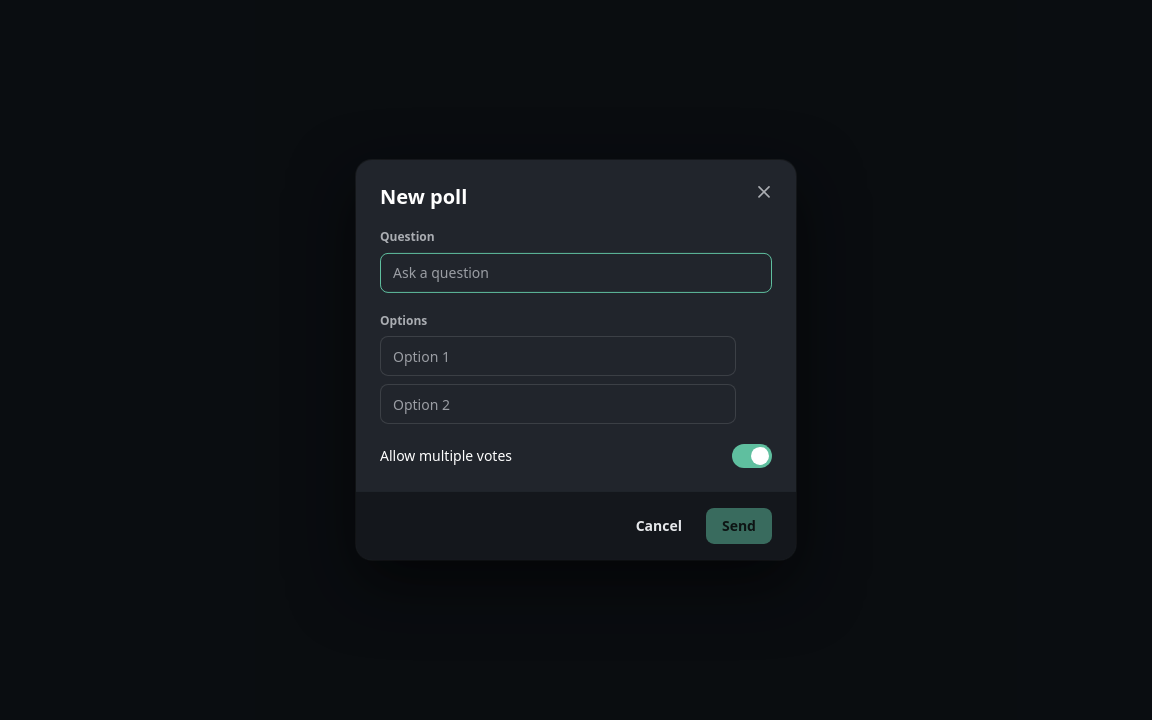
it: <PollCreateDialog /> › says two options are needed, announces it, and goes to the first blank one
The width and height of the screenshot is (1152, 720).
Type "Where?" into the field labelled "Question".
click(576, 272); type("Where?")  # box [393,254,759,292]
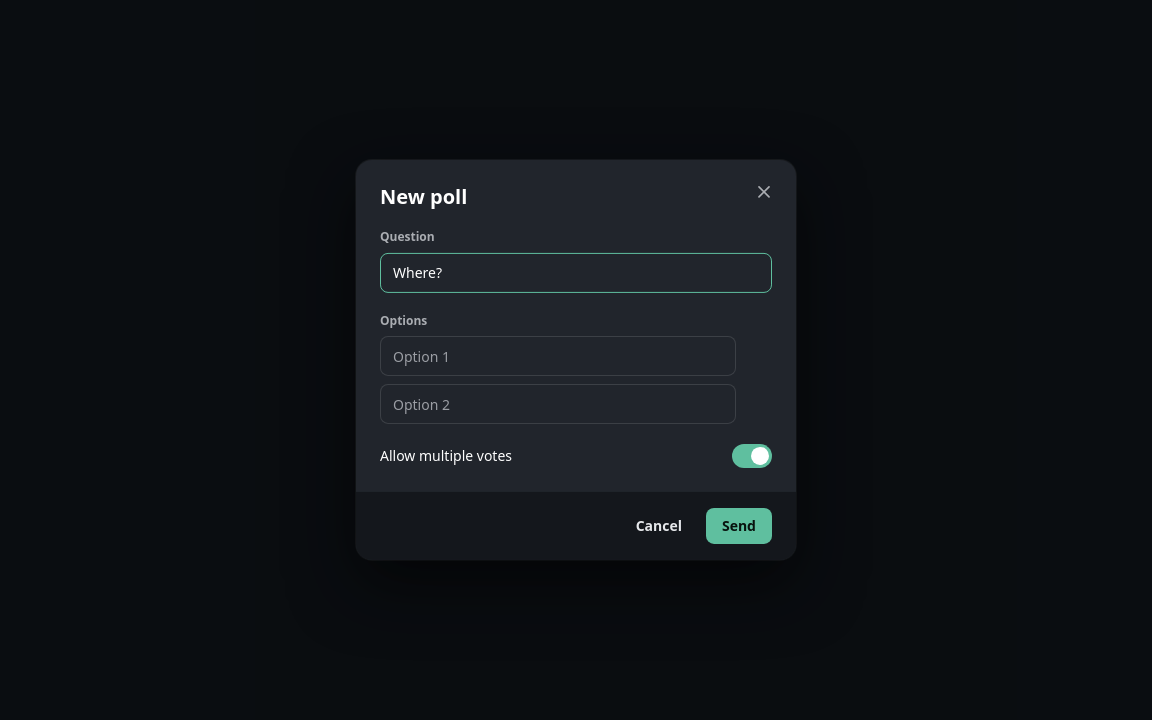
Type "a" into the field labelled "Option 1".
click(558, 356); type("a")  # box [393,337,723,375]
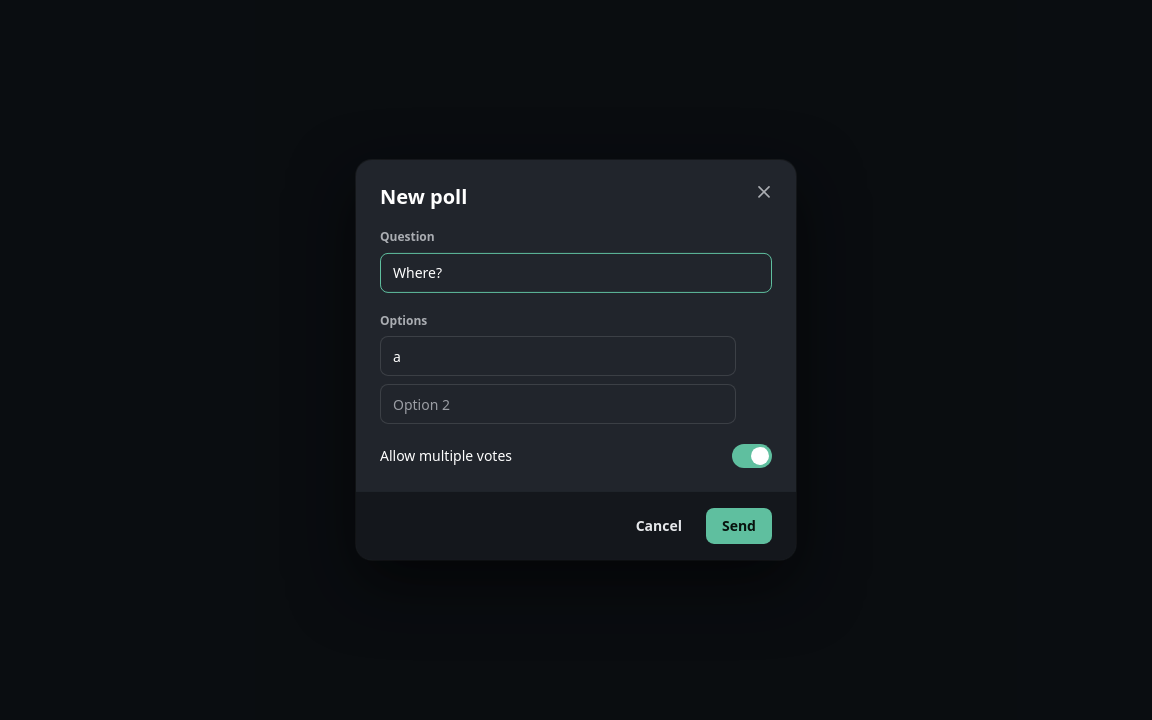
Click the button "Send".
click(739, 526)  # box [706,508,772,544]
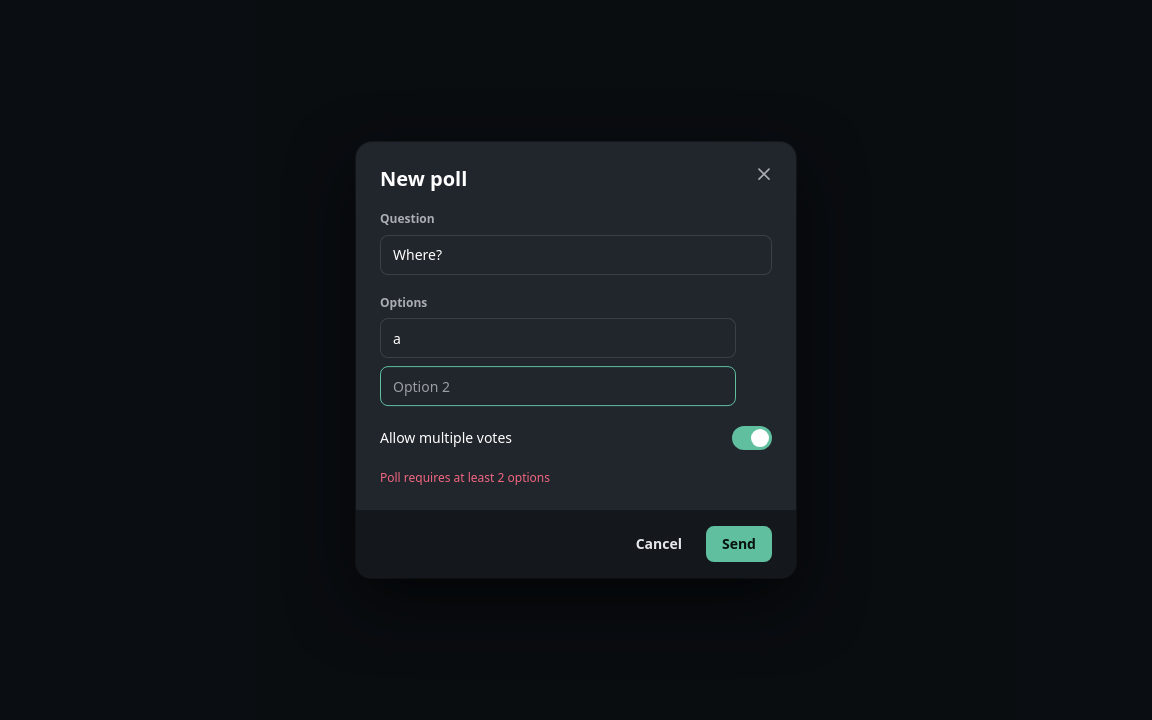
Expected: the message reads "Poll requires at least 2 options", [380,469,550,486]
